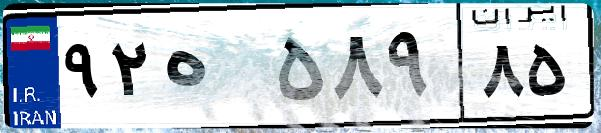2: (110, 28, 158, 98)
5: (270, 28, 330, 110), (525, 38, 570, 115)
8: (330, 28, 385, 110), (475, 38, 525, 113)
9: (385, 28, 445, 110), (57, 26, 110, 100)
ه: (158, 20, 270, 120)
